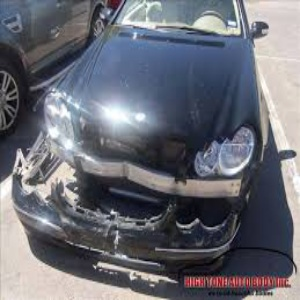bumper: (8, 179, 238, 269)
